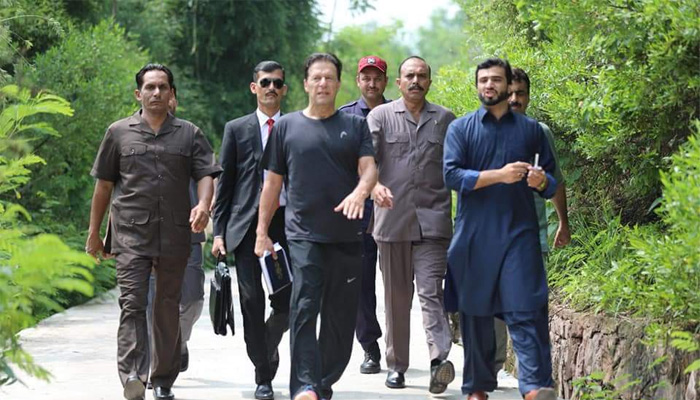feet: (382, 353, 461, 399), (457, 373, 566, 400), (115, 359, 180, 400), (134, 335, 195, 377), (322, 338, 387, 375), (238, 351, 285, 399), (286, 367, 339, 400)
